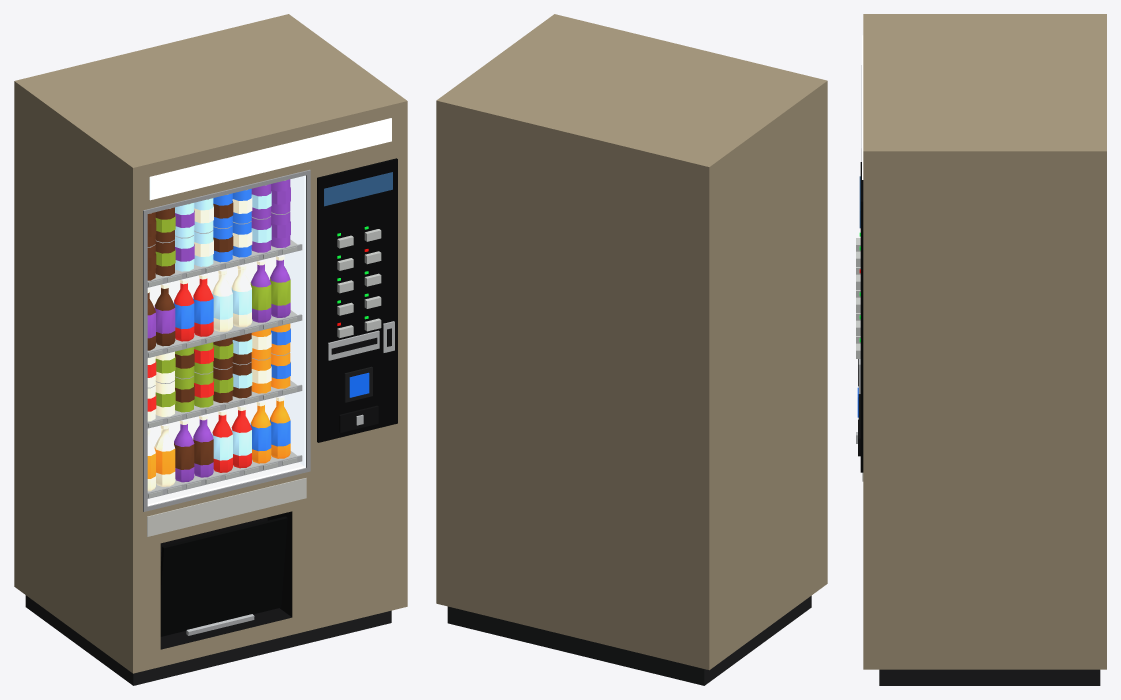
The model's file is gteki_vending_machine_sand.glb.
3 renders of one model, left to right at view 1: azimuth 30°, elevation 25°; view 2: azimuth 150°, elevation 25°; view 3: azimuth 270°, elevation 25°, orthographic. The views are drawn at different scales.
Visible parts, largest first — view 1: VIS_body; view 2: VIS_body; view 3: VIS_body.
Part boxes in pixels (x1,y1,x2,y2): VIS_body: (14, 14, 407, 685); VIS_body: (436, 14, 827, 685); VIS_body: (856, 14, 1106, 685).
Size of what is drawn, in the model's own units: 1 by 1.83 by 0.772.
2 materials, 2 textured.
